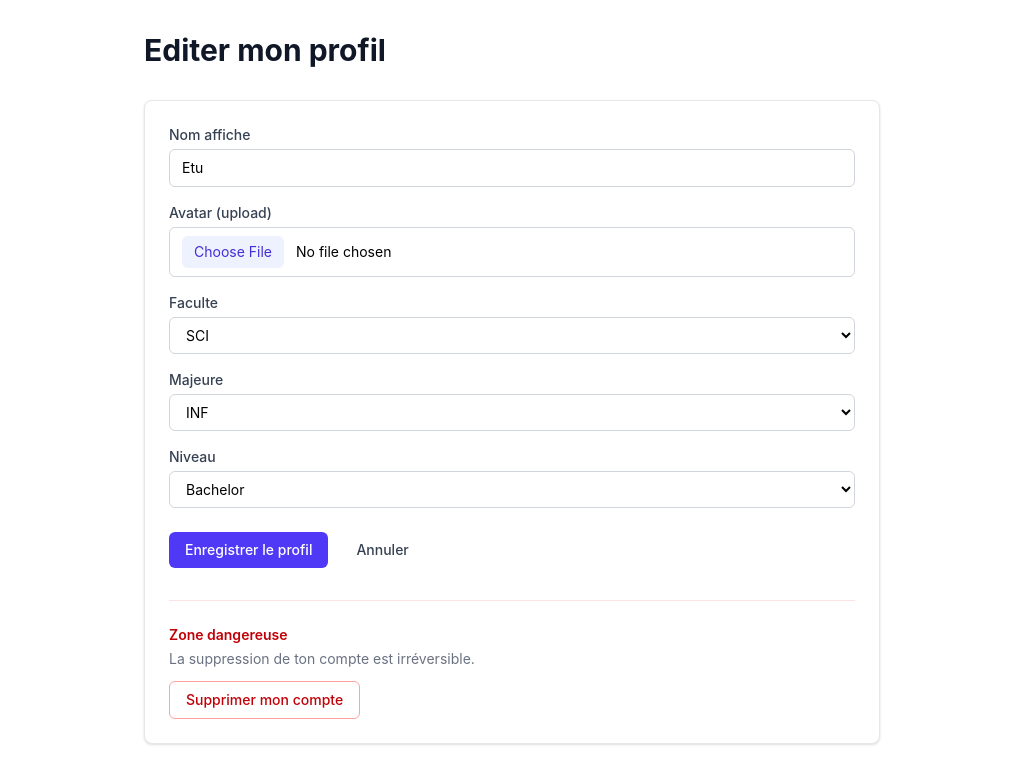
EditProfilePage › opens delete confirmation modal and Annuler closes it
Open the modal via the danger zone button
Step 1. Click the button "Supprimer mon compte" → {"x": 265, "y": 700}, box [169,681,360,719]
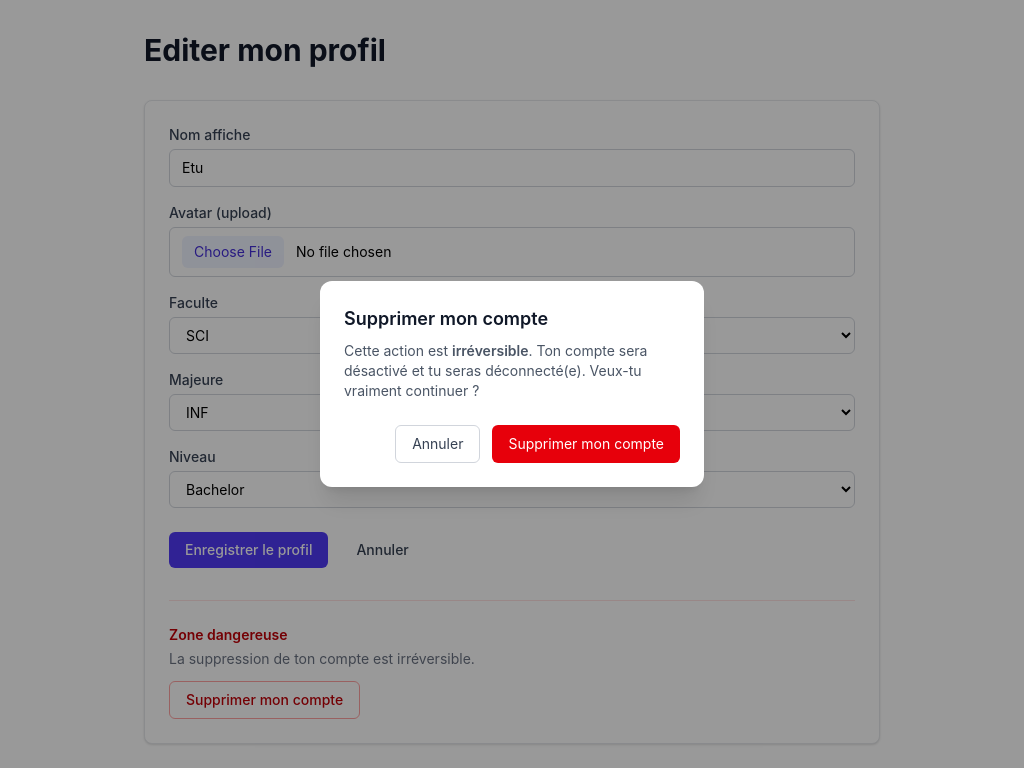
Check: the dialog is shown
Close via Annuler inside the modal (first of multiple Annuler buttons)
Step 2. Click the button "Annuler" → {"x": 438, "y": 444}, box [395,425,480,463]
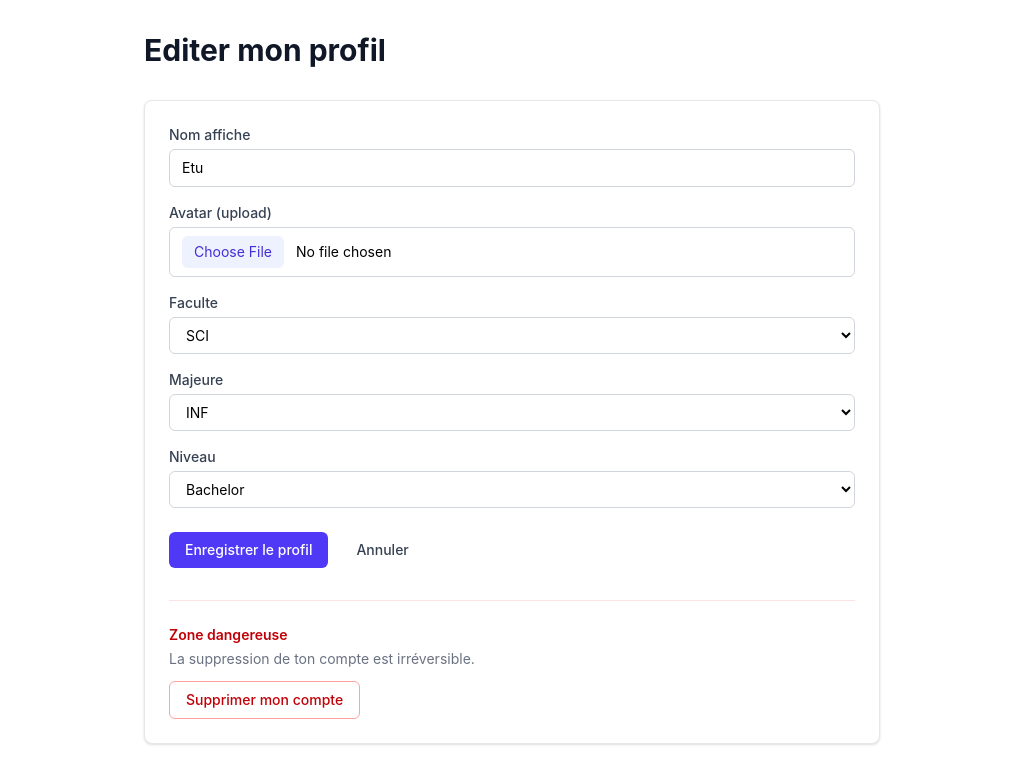
Check: the dialog is gone
